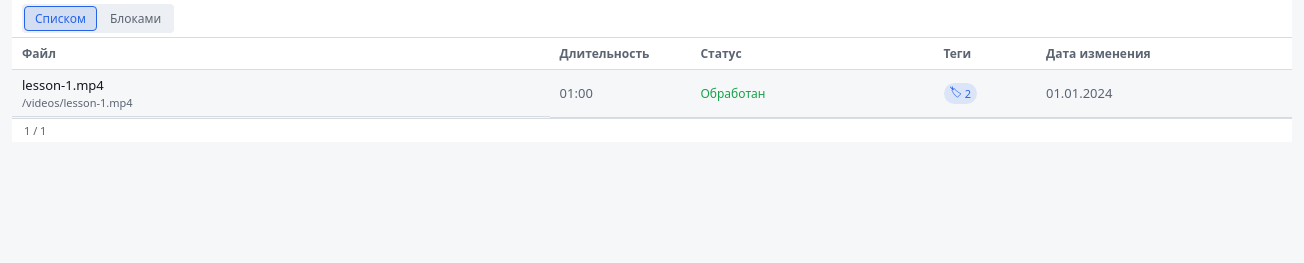
Test: FileList › по правому клику открывает контекстное меню
expect the text "lesson-1.mp4" is shown: met, box 22,76 -> 104,94
Right-click the text "lesson-1.mp4": (652, 93) 12,70 -> 1292,117
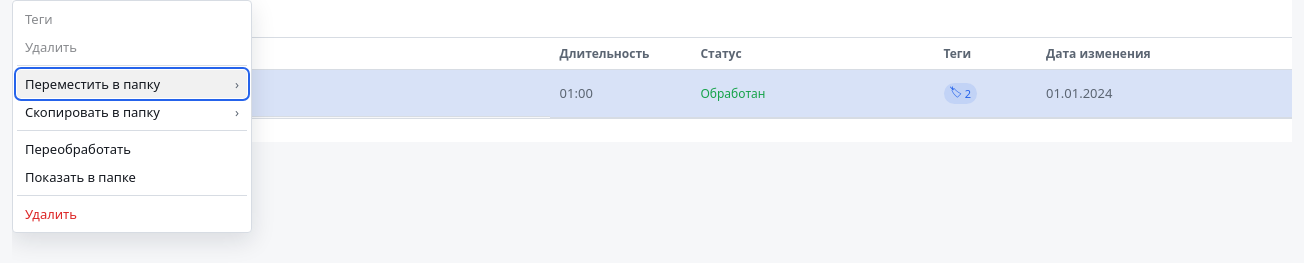
expect the menu is shown: met, box 12,0 -> 252,233
expect the menu item "Переобработать" is shown: met, box 17,135 -> 247,163
expect the menu item "Показать в папке" is shown: met, box 17,163 -> 247,191
